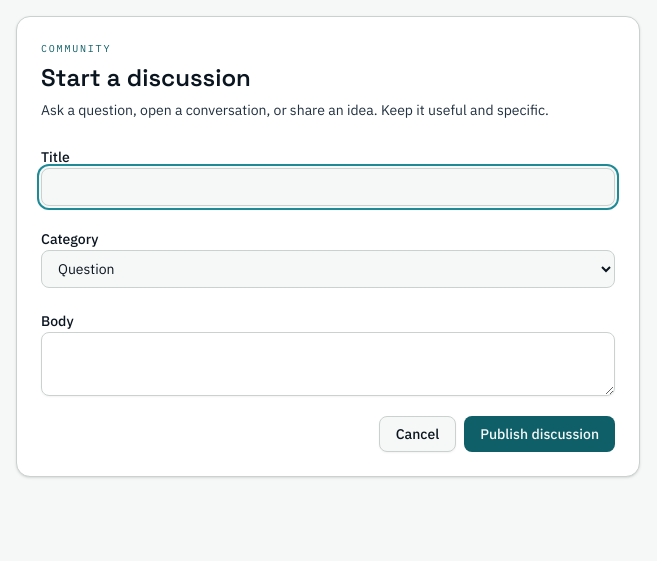
Test: new discussion route › preserves entered content and distinguishes forbidden failure
The width and height of the screenshot is (657, 561).
In the field labelled "Title": [328, 187] box [41, 168, 615, 206], type "Water quality"
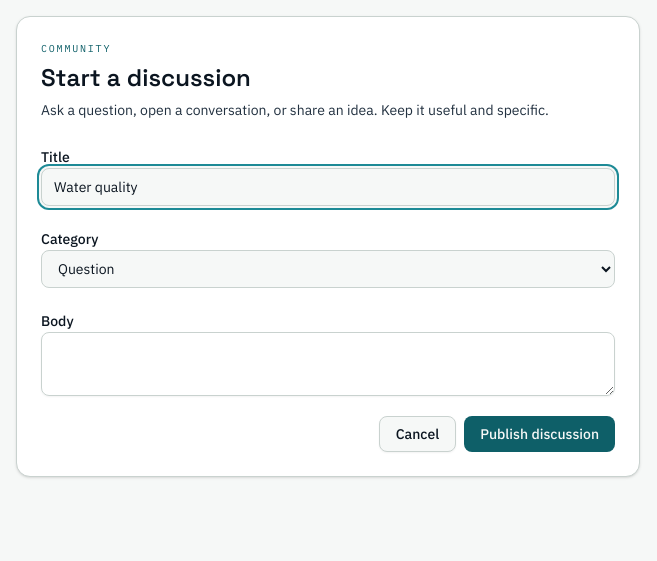
Select "Discussion" in the dropdown labelled "Category": [328, 269] box [41, 250, 615, 288]
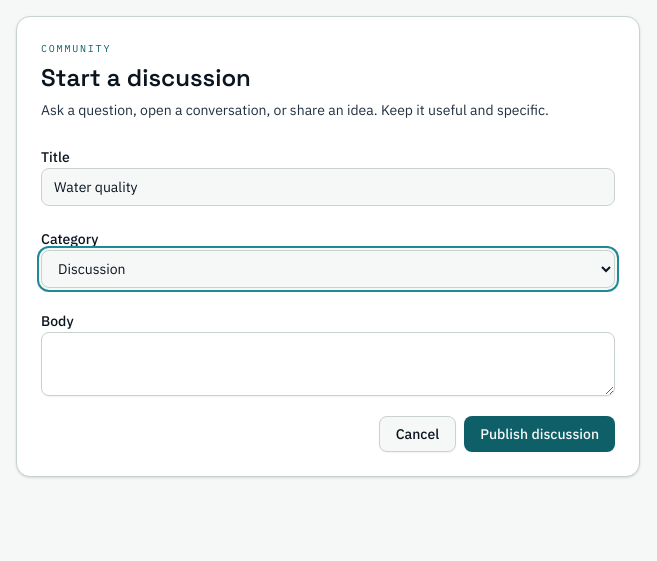
In the text box labelled "Body": [328, 364] box [41, 332, 615, 396], type "The supply has changed."
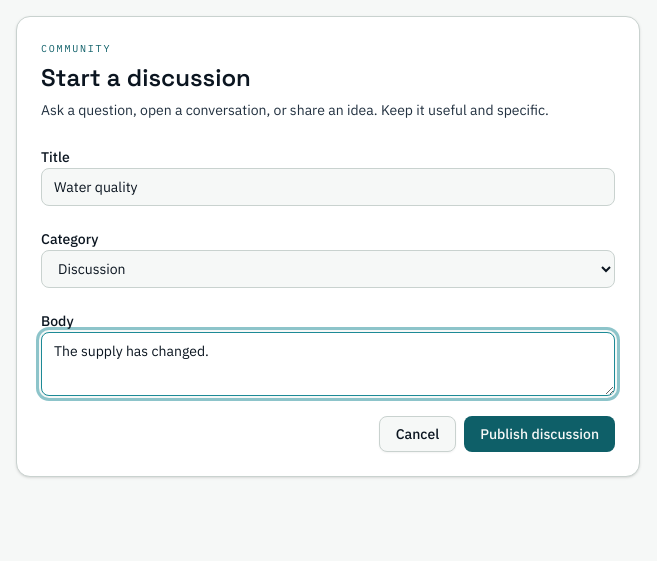
Click the button "Publish discussion": [540, 434] box [464, 416, 615, 452]
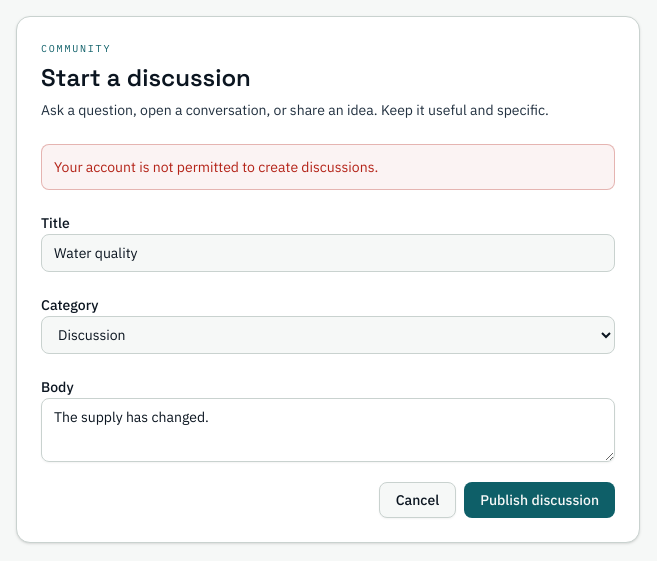
Expected: the button "Publish discussion" is enabled, [464, 482, 615, 518]
Expected: the message reads "Your account is not permitted to create discussions.", [54, 158, 378, 176]
